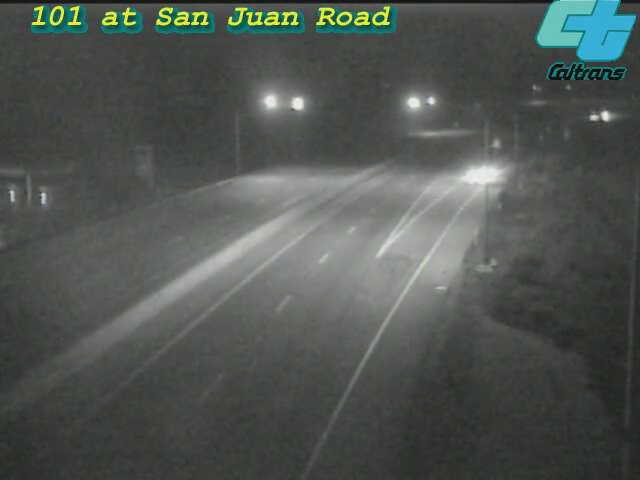vehicle: (441, 135, 521, 215), (573, 91, 623, 141)
